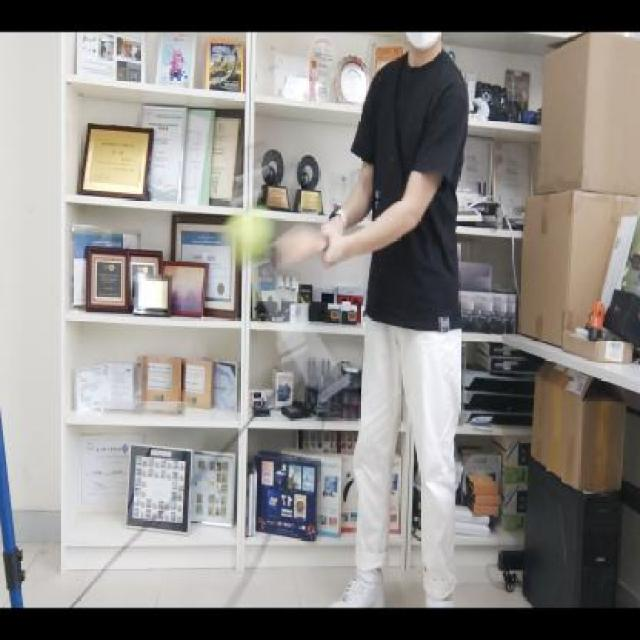baseball: (218, 208, 274, 268)
